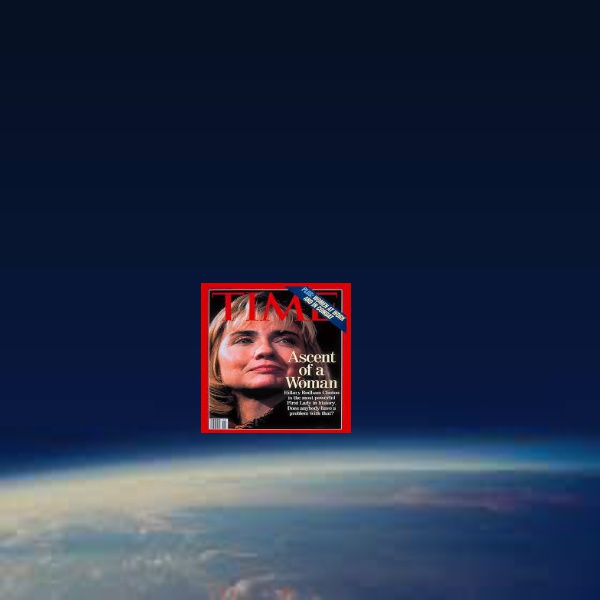time_cover: (193, 274, 359, 441)
